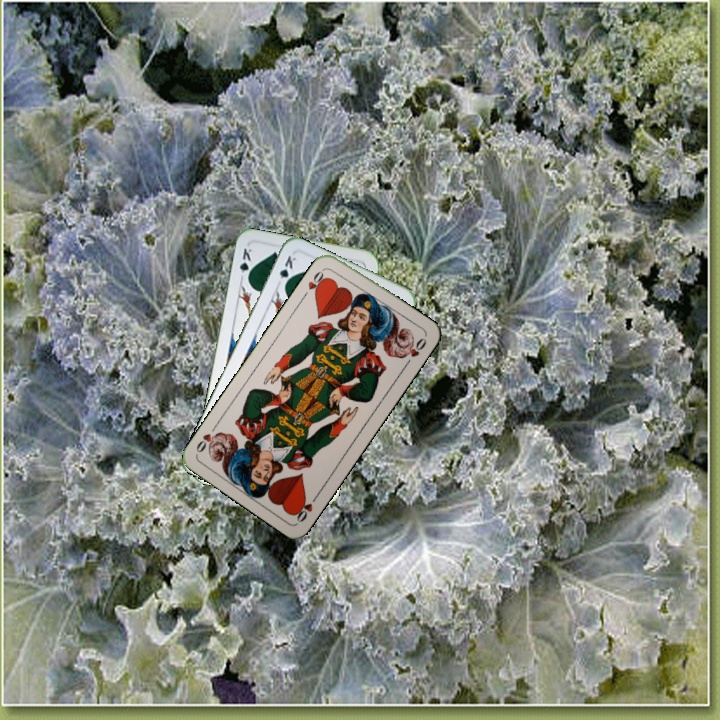GK: (274, 251, 299, 291), (235, 244, 254, 284)
HO: (290, 489, 322, 525), (299, 264, 330, 300)
